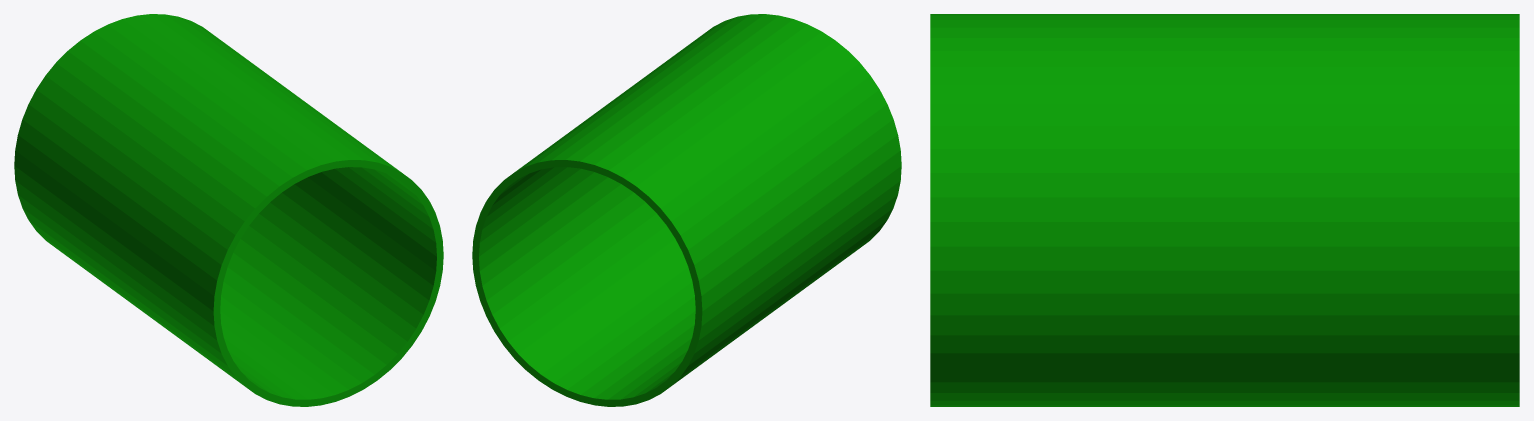
The picture shows the model from 3 angles, left to right: view 1: azimuth 30°, elevation 25°; view 2: azimuth 150°, elevation 25°; view 3: azimuth 270°, elevation 25°; orthographic projection. The views are drawn at different scales.
Visible parts, largest first — view 1: Tube2-0; view 2: Tube2-0; view 3: Tube2-0.
Part boxes in pixels (x1,y1,x2,y2): Tube2-0: (14,14,443,406); Tube2-0: (472,14,901,406); Tube2-0: (930,14,1519,406).
Size of the model in its own units: 2 by 2 by 3.
